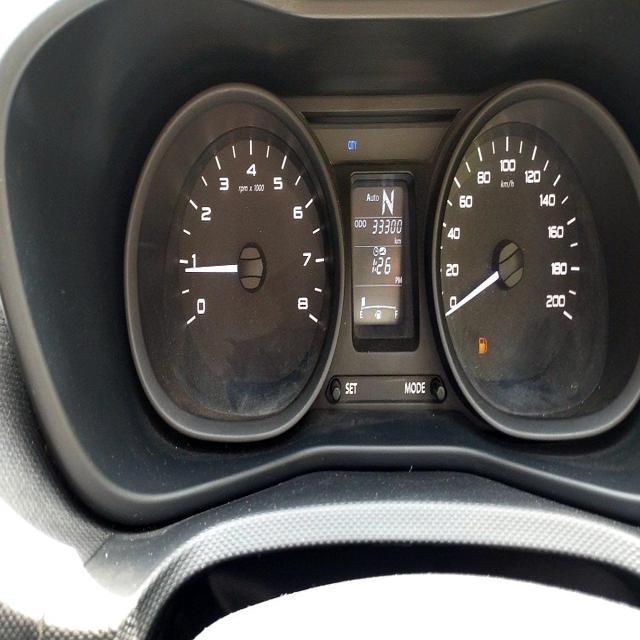odometer: (371, 216, 403, 236)
